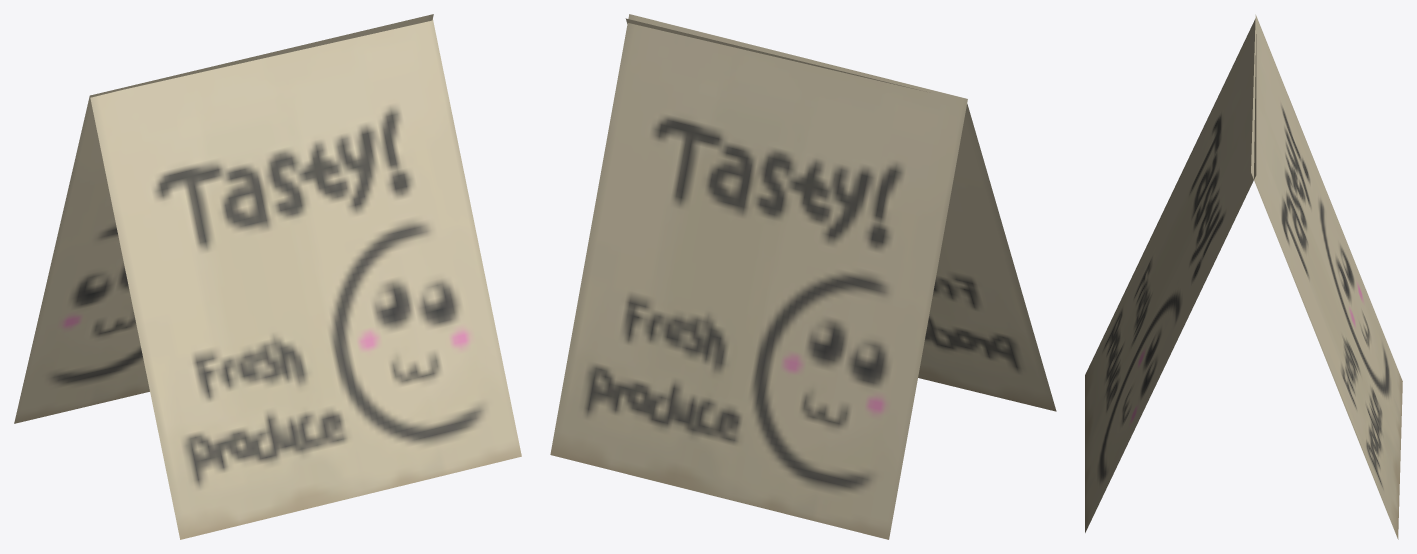
Rendered from signboard.FBX.
The picture shows the model from 3 angles, left to right: view 1: azimuth 30°, elevation 25°; view 2: azimuth 150°, elevation 25°; view 3: azimuth 270°, elevation 25°; orthographic projection. The views are drawn at different scales.
Visible parts, largest first — view 1: Plane001; view 2: Plane001; view 3: Plane001.
Boxes of the visible parts, x1,y1,x2,y2 form: Plane001: [14, 14, 521, 539]; Plane001: [550, 14, 1056, 539]; Plane001: [1085, 14, 1402, 539].
Bounding box in the file's own units: 34.19 × 36.67 × 28.8.
